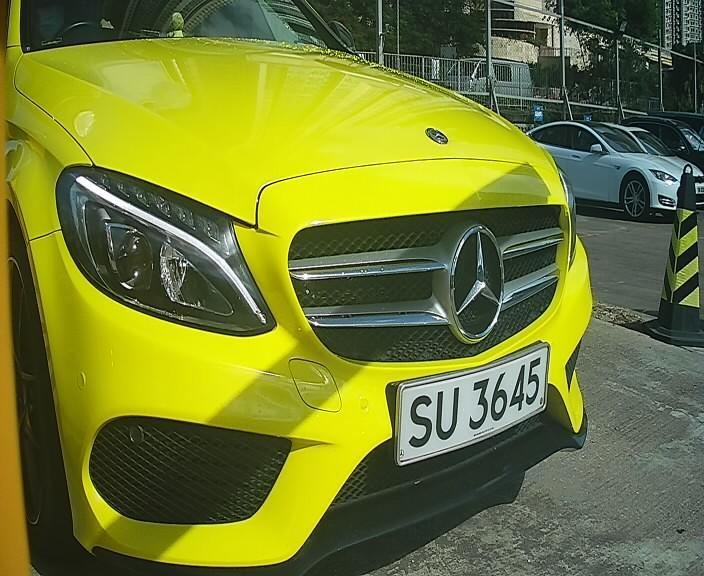License Plate: (372, 335, 559, 471)
